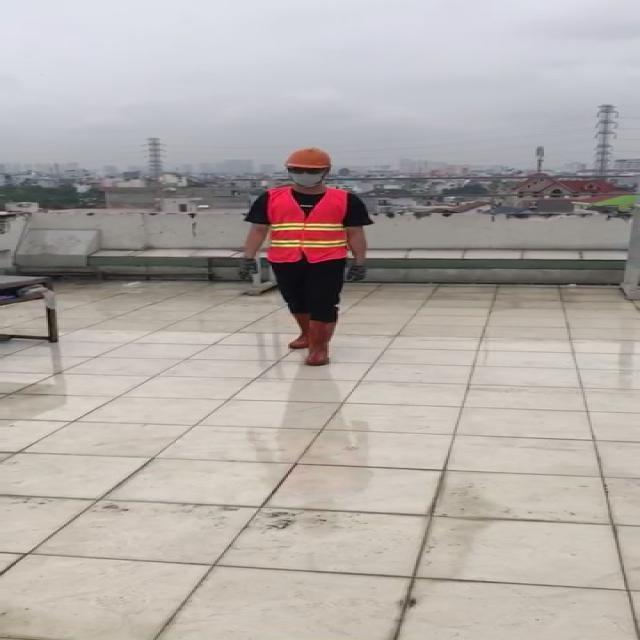gloves: (238, 256, 258, 284), (347, 262, 368, 284)
goggles: (287, 167, 325, 175)
helmet: (278, 147, 338, 170)
safety_vest: (268, 188, 348, 261)
